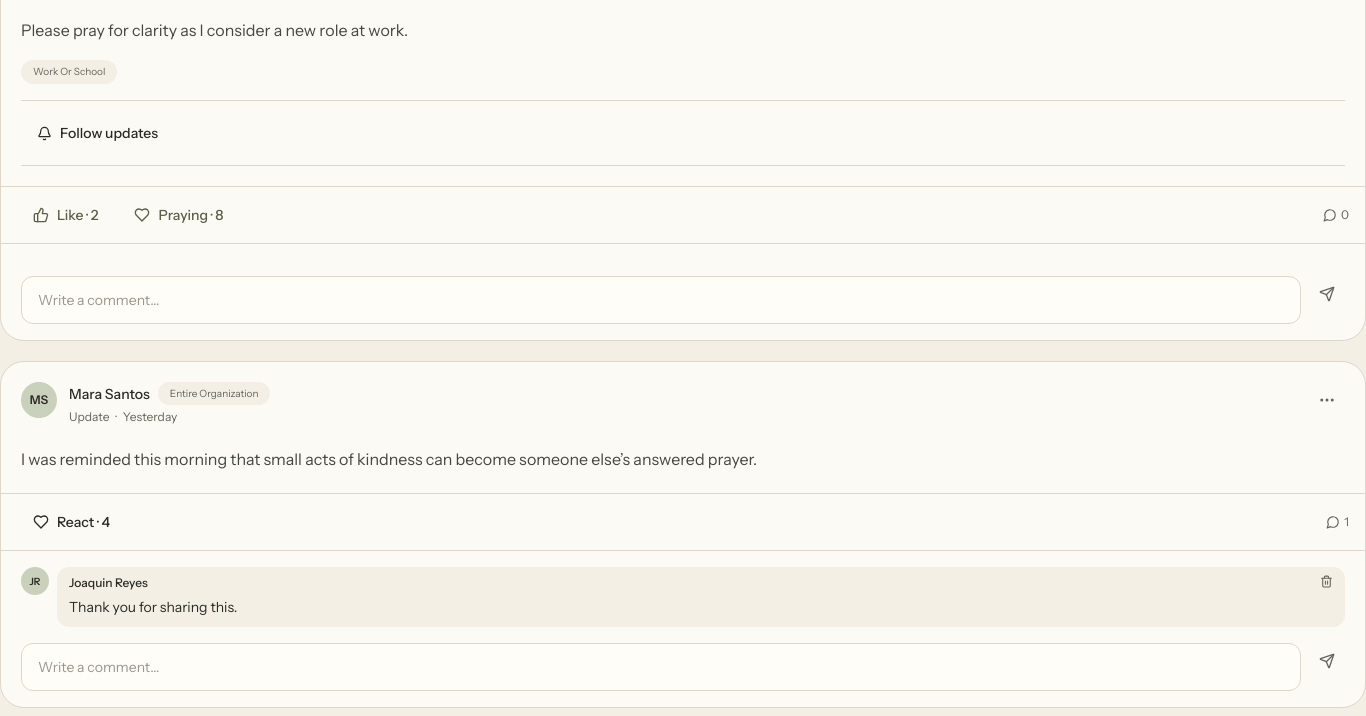
Test: CommunityFeed › supports reactions and one-level comments
(page scrolled)
Click the button named "choose a reaction": (72, 522) [17,502,126,542]
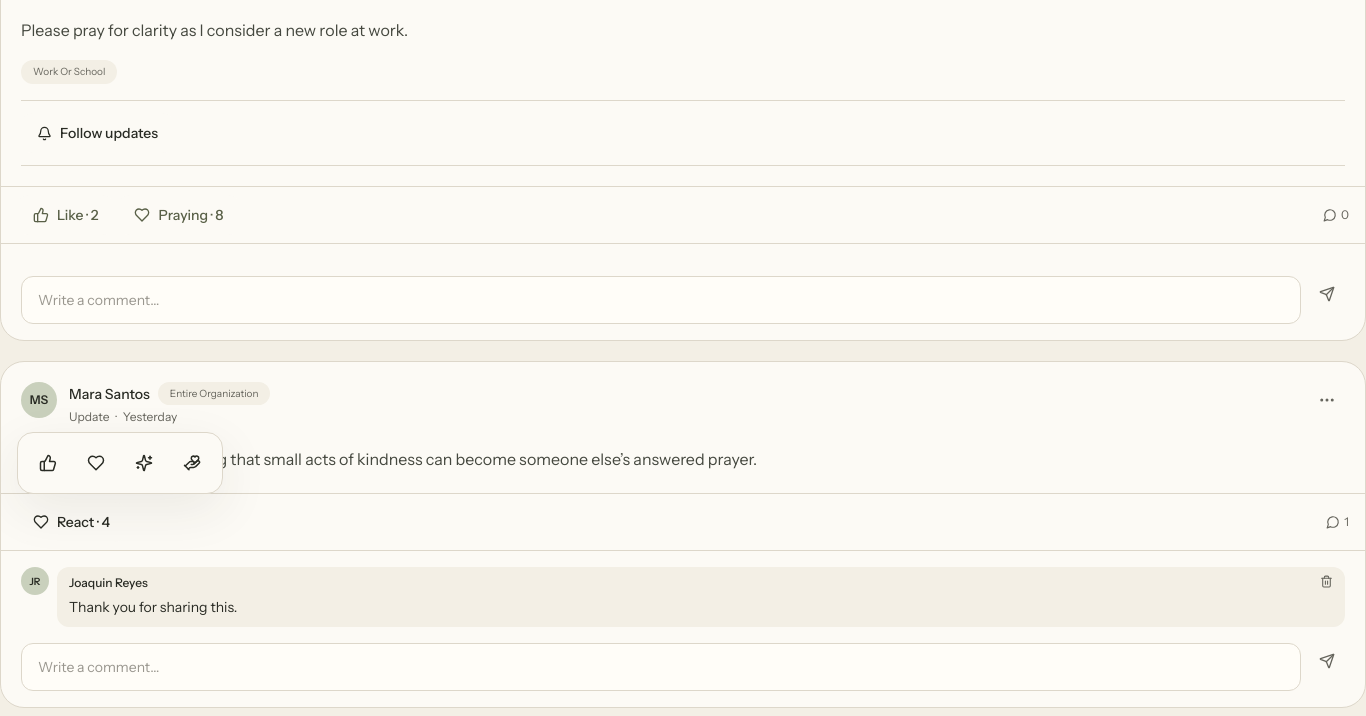
Click the menu item named "Like": (48, 463) [26,441,70,485]
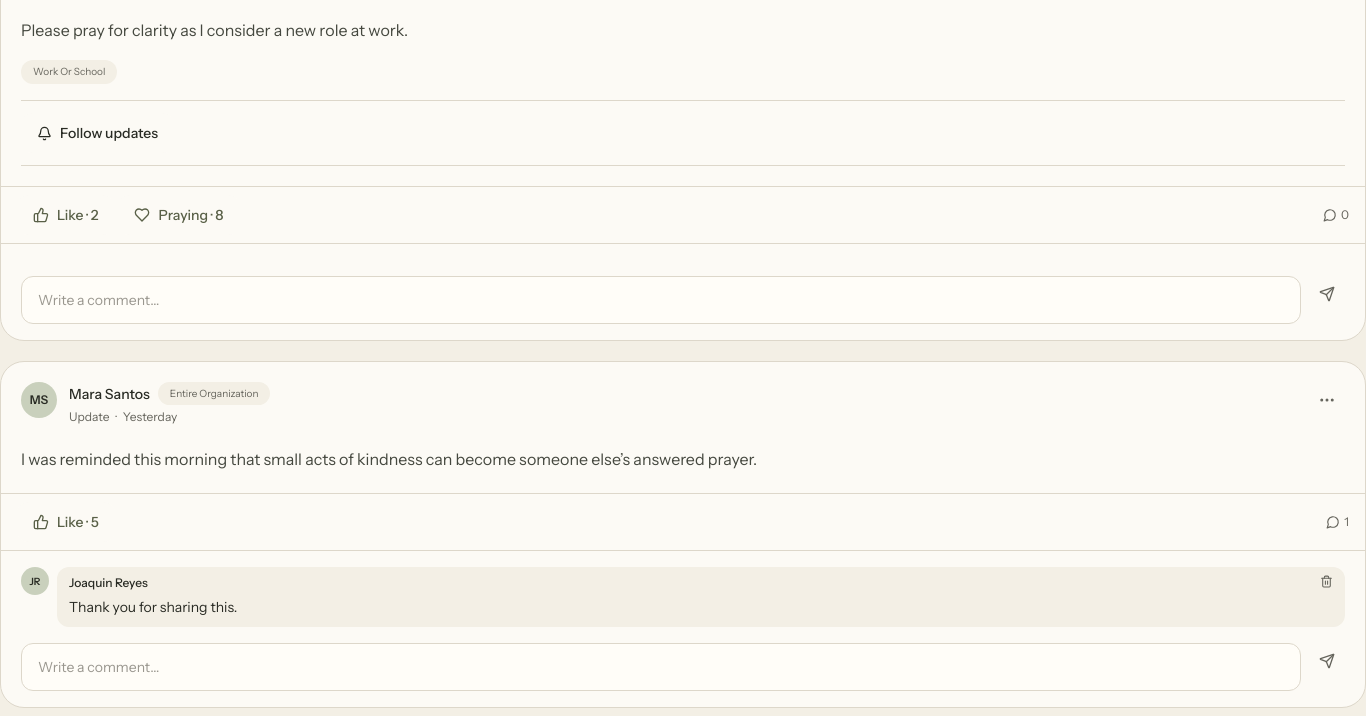
expect the button "Like · 5" is shown: met, box [17,502,115,542]
In the field labelled "Write a comment" below "Thank you for sharing this.": (661, 667) [21,643,1301,691], type "This encouraged me."
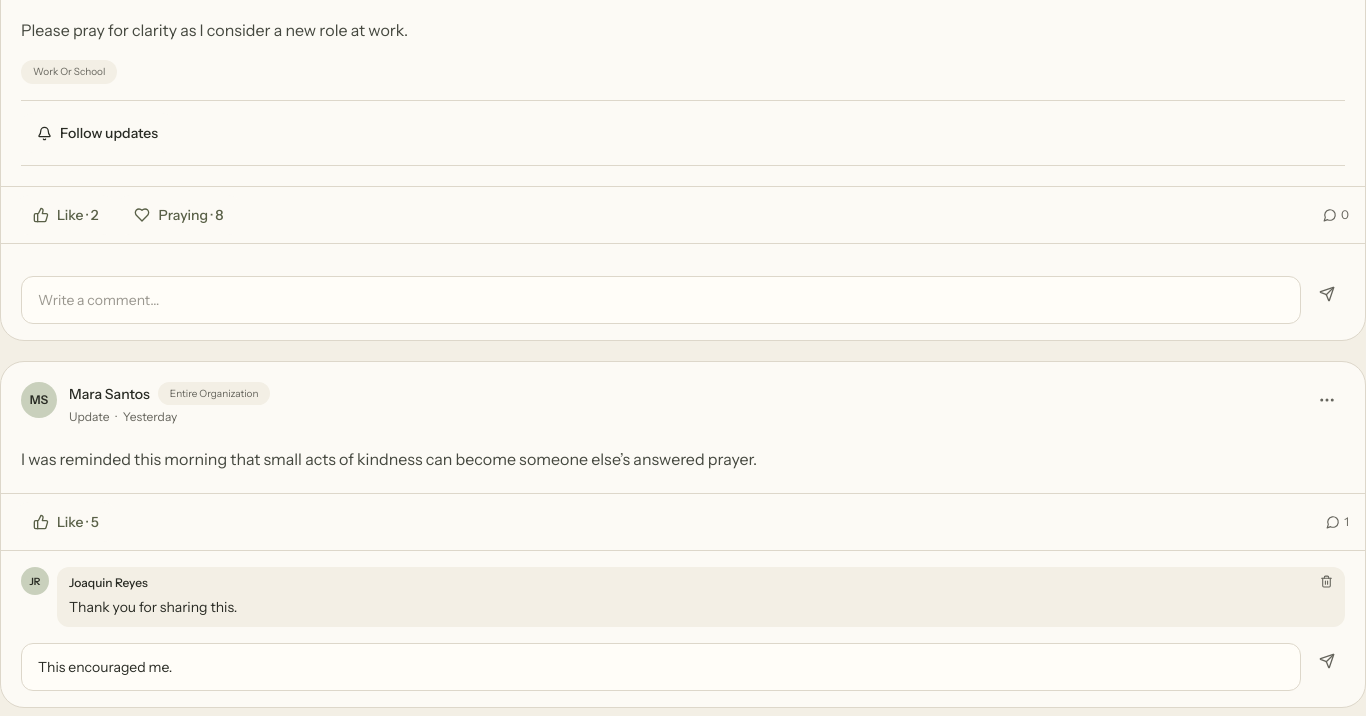
Click the 2nd button named "Comment": (1327, 661) [1309,643,1345,679]
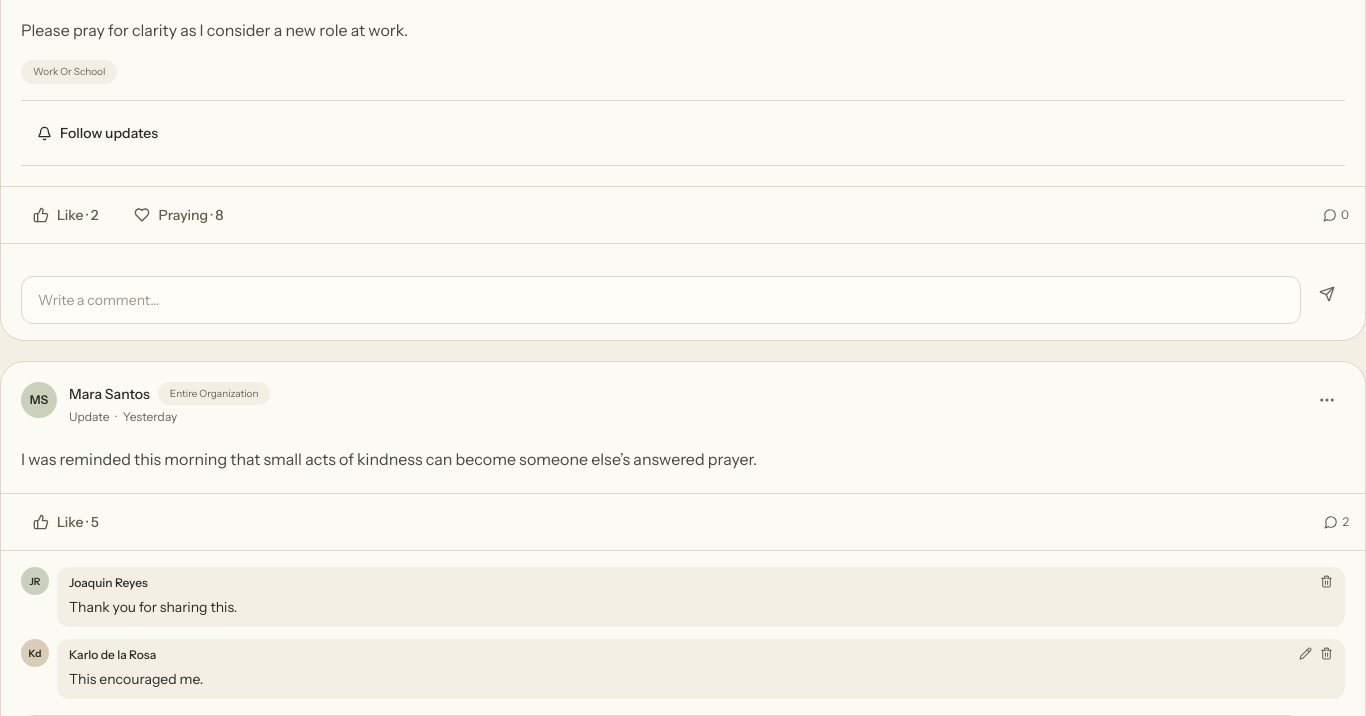
expect the text "This encouraged me." is shown: met, box [69,670,203,688]
